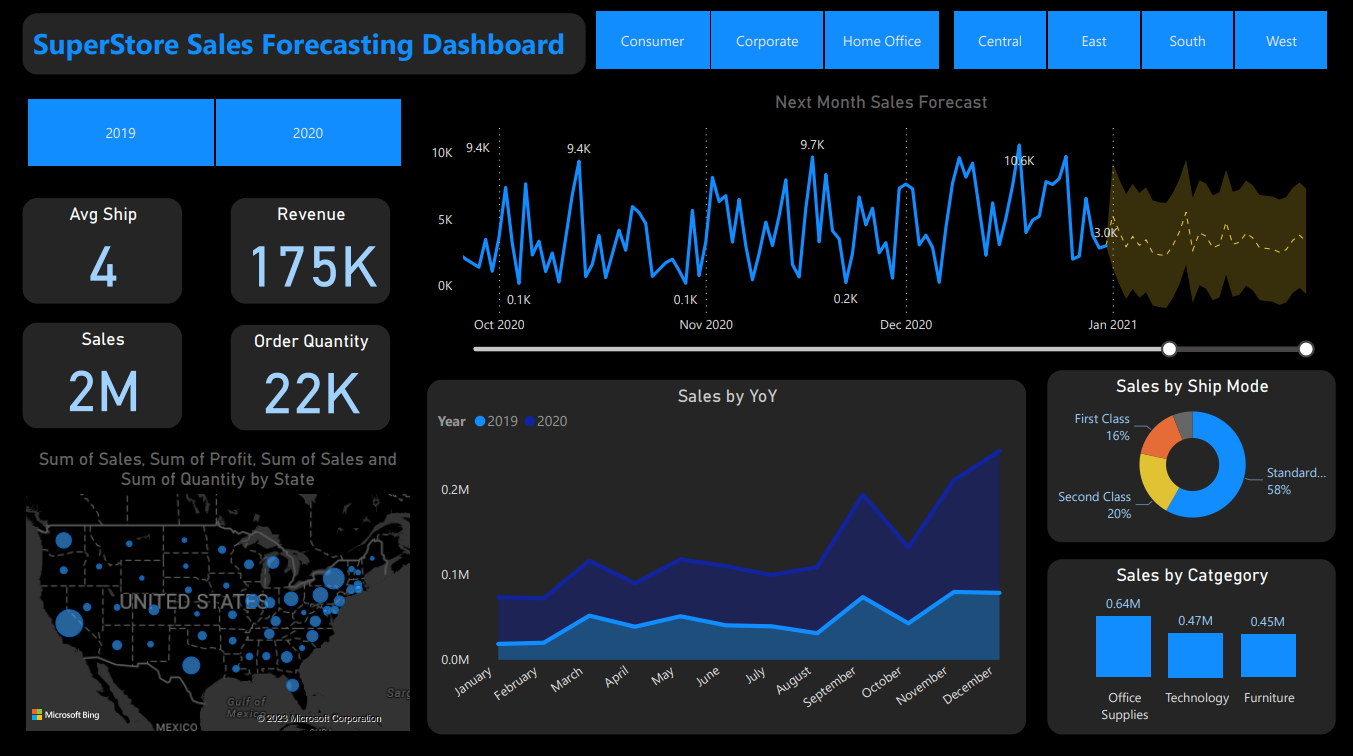

The dashboard page shown, as its layout file describes it:
{"tool":"powerbi","page":{"name":"Page 1","canvas":[1280,720],"ordinal":0},"visuals":[{"type":"lineChart","title":"Next Month Sales Forecast","fields":{"Y":["Sum(SuperStore_Sales_Dataset.Sales)"],"Category":["SuperStore_Sales_Dataset.Order Date"]},"box":[403.3,90,861.7,255],"z":0},{"type":"slicer","fields":{"Values":["SuperStore_Sales_Dataset.Region"]},"box":[876.7,6.7,403.3,68.3],"z":1000},{"type":"textbox","box":[20,15,535,60],"z":2000},{"type":"card","title":"Avg Ship","fields":{"Values":["Avg(SuperStore_Sales_Dataset.Avg Delivery)"]},"box":[20,190,153.3,101.7],"z":3000},{"type":"card","title":"Revenue","fields":{"Values":["Sum(SuperStore_Sales_Dataset.Profit)"]},"box":[216.7,190,153.3,101.7],"z":4000},{"type":"card","title":"Order Quantity","fields":{"Values":["Sum(SuperStore_Sales_Dataset.Quantity)"]},"box":[216.7,310,153.3,101.7],"z":5000},{"type":"card","title":"Sales","fields":{"Values":["Sum(SuperStore_Sales_Dataset.Sales)"]},"box":[20,308.3,153.3,101.7],"z":6000},{"type":"slicer","fields":{"Values":["SuperStore_Sales_Dataset.Order Date.Variation.Date Hierarchy.Year"]},"box":[0,90,403.3,76.7],"z":7000},{"type":"slicer","fields":{"Values":["SuperStore_Sales_Dataset.Segment"]},"box":[538.3,6.7,373.3,68.3],"z":8000},{"type":"map","fields":{"Category":["SuperStore_Sales_Dataset.State"],"Size":["Sum(SuperStore_Sales_Dataset.Sales)"]},"box":[20,428.3,371.7,271.7],"z":9000},{"type":"donutChart","title":"Sales by Ship Mode","fields":{"Category":["SuperStore_Sales_Dataset.Ship Mode"],"Y":["Sum(SuperStore_Sales_Dataset.Sales)"]},"box":[990,353.3,275,165],"z":10000},{"type":"clusteredColumnChart","title":"Sales by Catgegory","fields":{"Category":["SuperStore_Sales_Dataset.Category"],"Y":["Sum(SuperStore_Sales_Dataset.Sales)"]},"box":[990,531.7,275,168.3],"z":10001},{"type":"stackedAreaChart","title":"Sales by YoY","fields":{"Category":["SuperStore_Sales_Dataset.Order Date.Variation.Date Hierarchy.Month","SuperStore_Sales_Dataset.Order Date.Variation.Date Hierarchy.Day"],"Y":["Sum(SuperStore_Sales_Dataset.Sales)"],"Series":["SuperStore_Sales_Dataset.Order Date.Variation.Date Hierarchy.Year"]},"box":[403.3,361.7,568.3,338.3],"z":10002}]}

Visuals, with their boxes in screenshot pixels (x1, y1, x2, y2), scaled from the page's 1280x720 canvas onto the 1353x756 screenshot:
"Next Month Sales Forecast" lineChart: 426/94/1337/362
slicer - SuperStore_Sales_Dataset.Region: 927/7/1352/79
textbox: 21/16/587/79
"Avg Ship" card: 21/200/183/306
"Revenue" card: 229/200/391/306
"Order Quantity" card: 229/326/391/432
"Sales" card: 21/324/183/430
slicer - SuperStore_Sales_Dataset.Order Date.Variation.Date Hierarchy.Year: 0/94/426/175
slicer - SuperStore_Sales_Dataset.Segment: 569/7/964/79
map - SuperStore_Sales_Dataset.State x Sum(SuperStore_Sales_Dataset.Sales): 21/450/414/735
"Sales by Ship Mode" donutChart: 1046/371/1337/544
"Sales by Catgegory" clusteredColumnChart: 1046/558/1337/735
"Sales by YoY" stackedAreaChart: 426/380/1027/735
